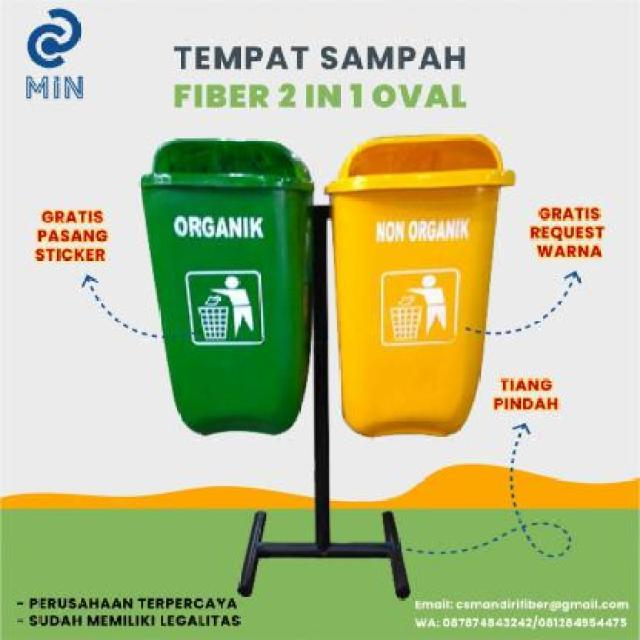garbage container: (322, 133, 522, 455), (133, 132, 322, 445)
